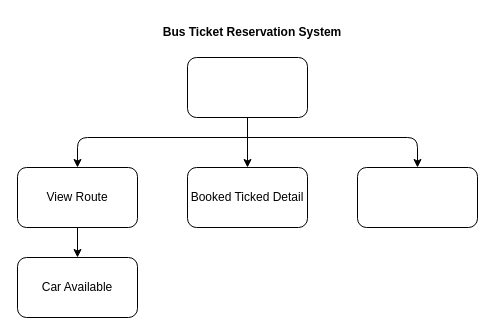
Image size: 495x335. Some labels were removed from this diagram. Each missing label, with the box of its shape:
Home: (186, 56, 308, 118)
SignIn/SignOut: (356, 166, 478, 228)
